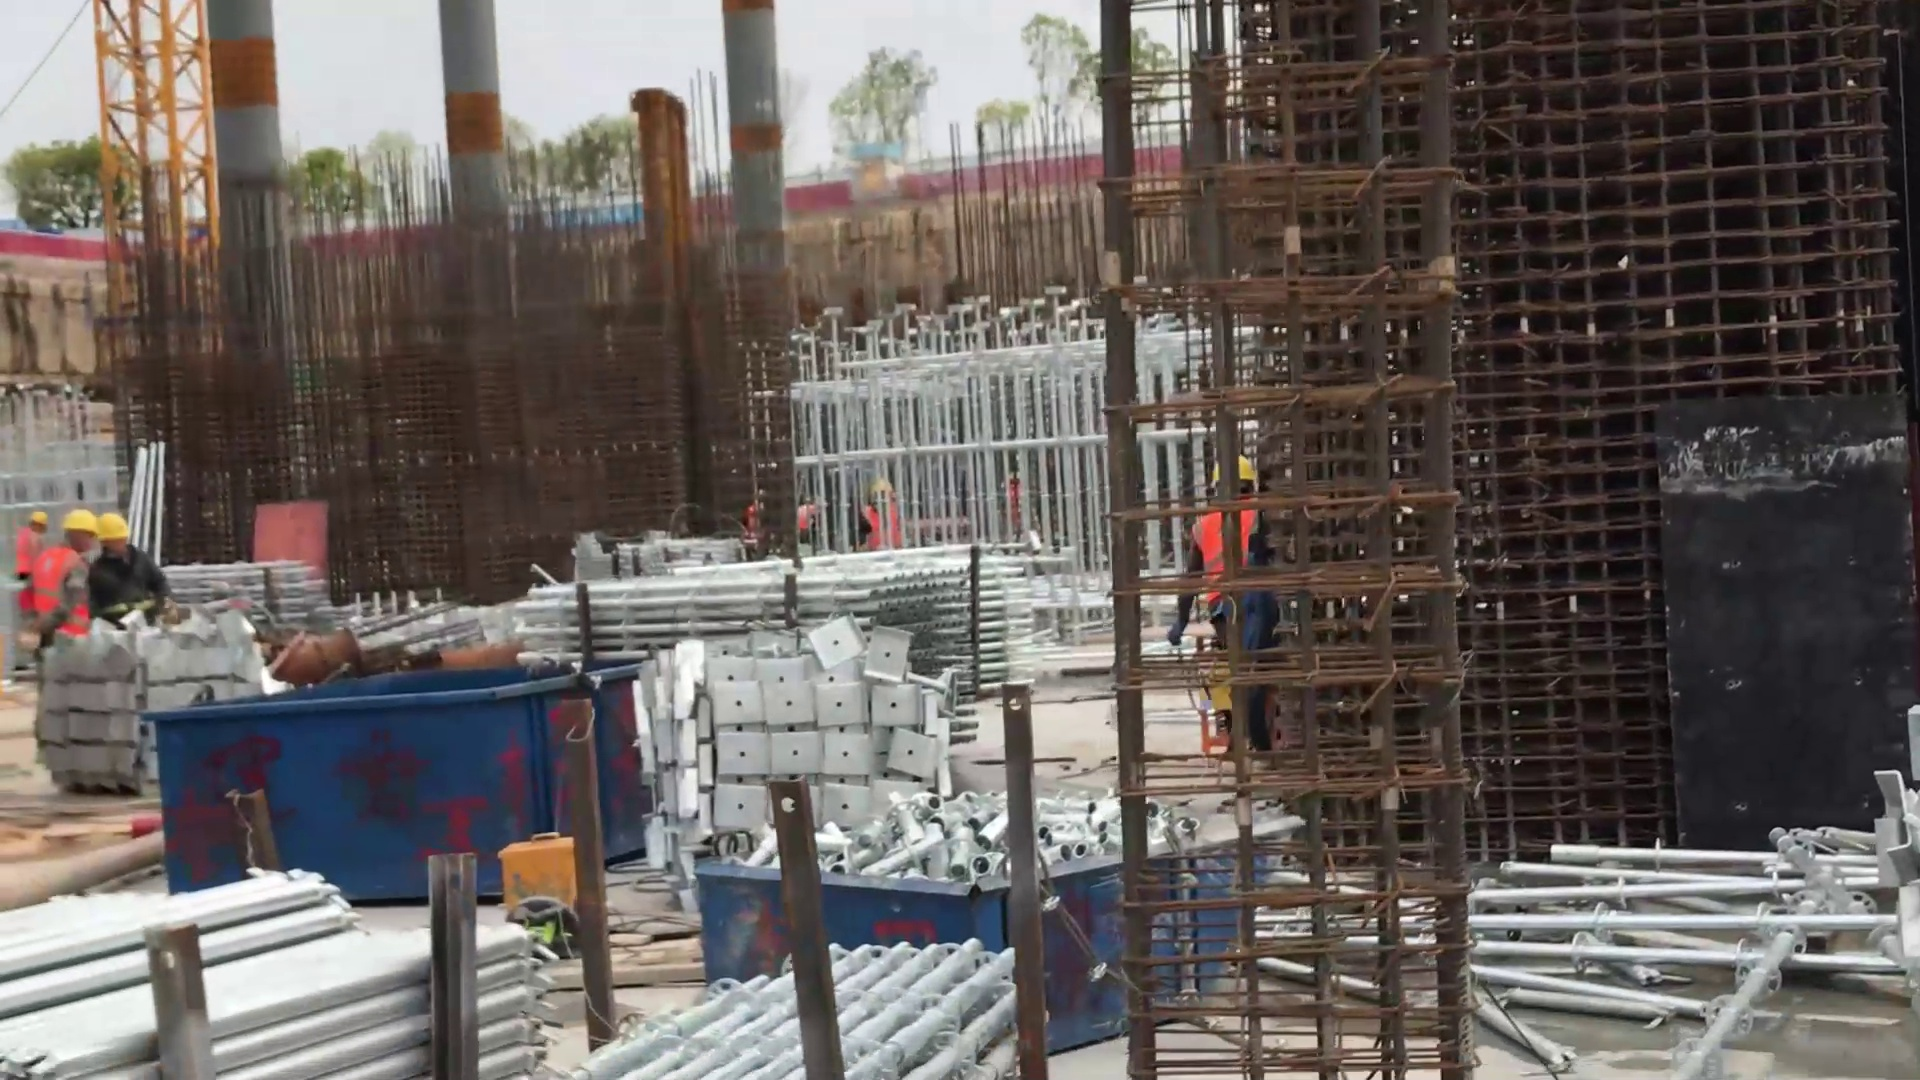ebox: (493, 821, 581, 950)
helmet: (94, 509, 137, 548), (57, 506, 99, 540), (24, 506, 50, 534)
hopper: (684, 826, 1267, 1050), (153, 647, 657, 905)
person: (88, 503, 179, 644), (28, 506, 99, 671), (9, 501, 54, 598)
scaffold: (1, 847, 543, 1077), (519, 531, 1029, 695), (559, 926, 1055, 1080), (167, 547, 334, 638)
vest: (28, 545, 90, 654), (13, 532, 40, 579)
